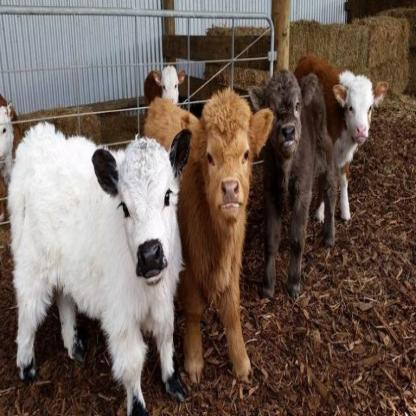cow: (7, 122, 192, 416), (184, 89, 270, 381), (264, 72, 317, 296), (320, 69, 387, 239)
